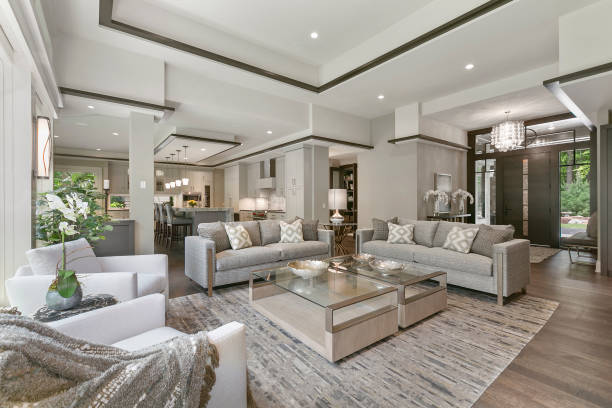chair: (9, 293, 250, 407), (4, 235, 170, 303)
flower vase: (30, 172, 112, 312)
sofa: (351, 214, 533, 307), (182, 216, 339, 299)
table: (249, 260, 398, 365), (325, 250, 450, 331)
table lamp: (324, 187, 349, 225)
